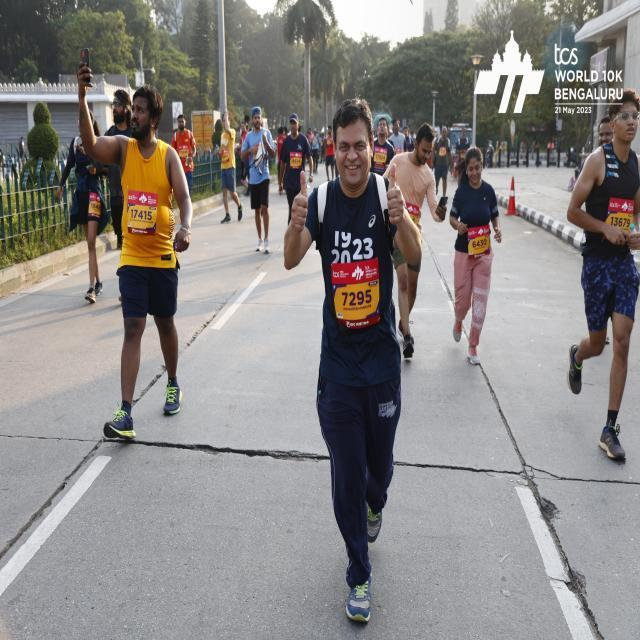dorsal: (327, 254, 382, 335), (125, 185, 161, 238), (467, 224, 492, 262)
